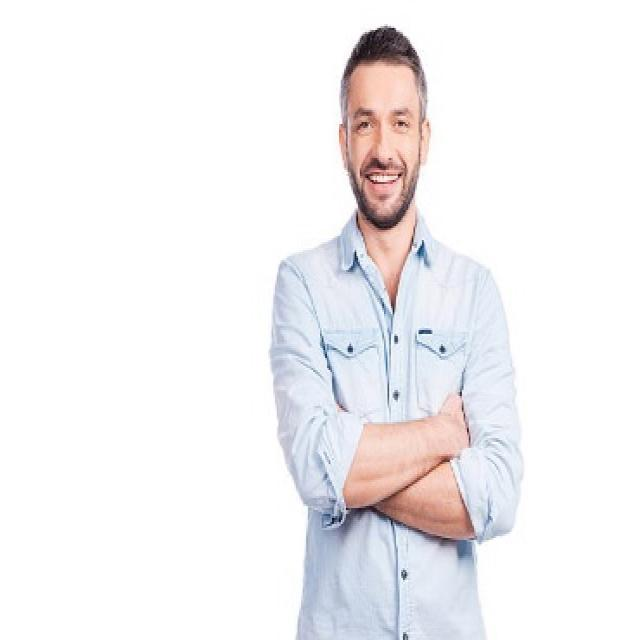adult: (272, 19, 532, 640)
